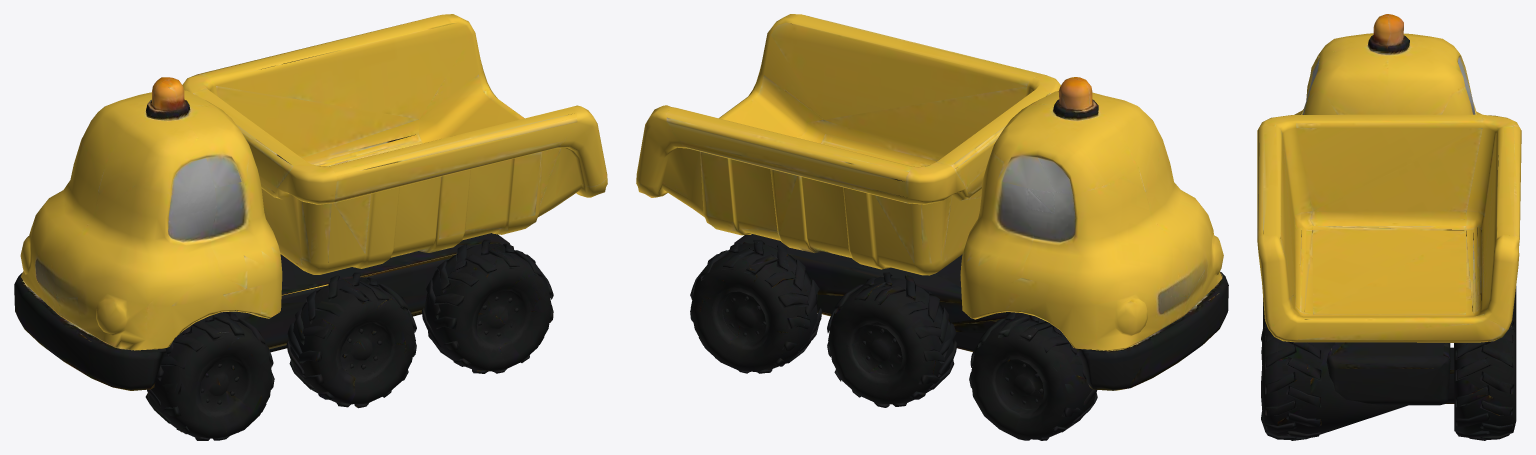
The model's file is veh-dump.glb.
3 renders of one model, left to right at view 1: azimuth 30°, elevation 25°; view 2: azimuth 150°, elevation 25°; view 3: azimuth 270°, elevation 25°, orthographic. The views are drawn at different scales.
Bounding box in the file's own units: 1.64 × 1 × 0.807.
Materials: 1 (1 with a texture image).
